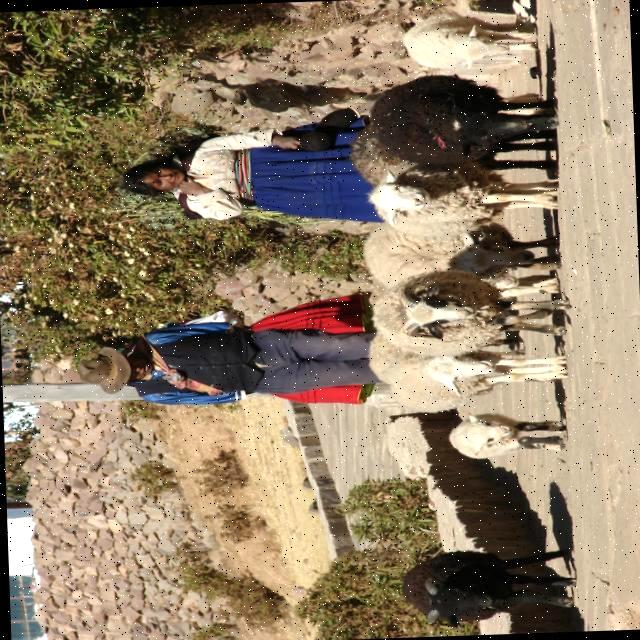sheep: (401, 549, 572, 625), (451, 411, 559, 457)
